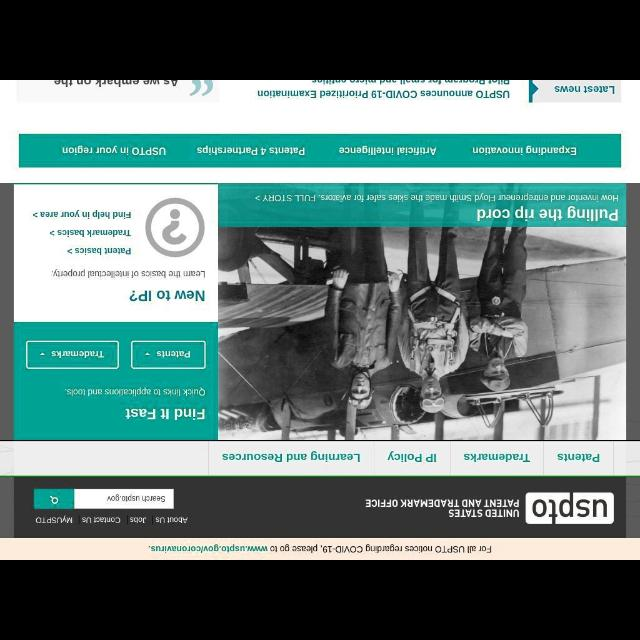button: (34, 489, 74, 508)
icon: (146, 198, 204, 258), (189, 80, 213, 96), (50, 494, 59, 504), (145, 351, 151, 357), (39, 352, 45, 356)
image: (218, 184, 628, 440), (524, 492, 614, 524)
input: (74, 489, 174, 508)
multitab: (222, 451, 600, 462)
spinner: (26, 342, 118, 368), (131, 340, 205, 370)
text: (258, 81, 510, 99), (255, 192, 619, 202), (148, 544, 492, 554), (365, 498, 519, 518), (478, 206, 618, 222), (222, 451, 361, 463), (52, 268, 206, 278), (65, 386, 205, 396), (197, 144, 306, 156), (472, 144, 578, 156), (62, 145, 166, 157), (339, 144, 437, 156), (130, 288, 206, 302), (123, 408, 204, 420), (32, 210, 132, 218), (52, 81, 178, 87), (463, 452, 531, 462), (49, 229, 131, 237), (387, 451, 438, 463), (66, 247, 132, 256), (554, 85, 616, 94), (106, 493, 166, 502), (557, 452, 601, 462), (52, 350, 104, 358), (80, 516, 121, 524), (156, 349, 190, 358), (35, 515, 73, 523), (154, 516, 188, 524), (129, 516, 147, 524)
toolbar: (1, 476, 639, 538)
